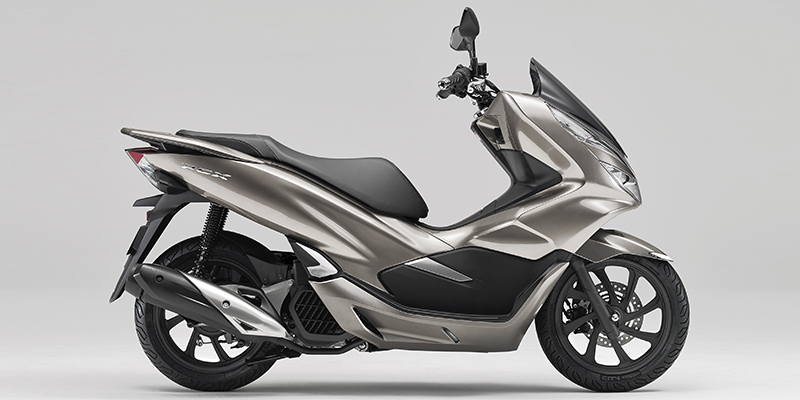motorcycle: (116, 57, 689, 396)
